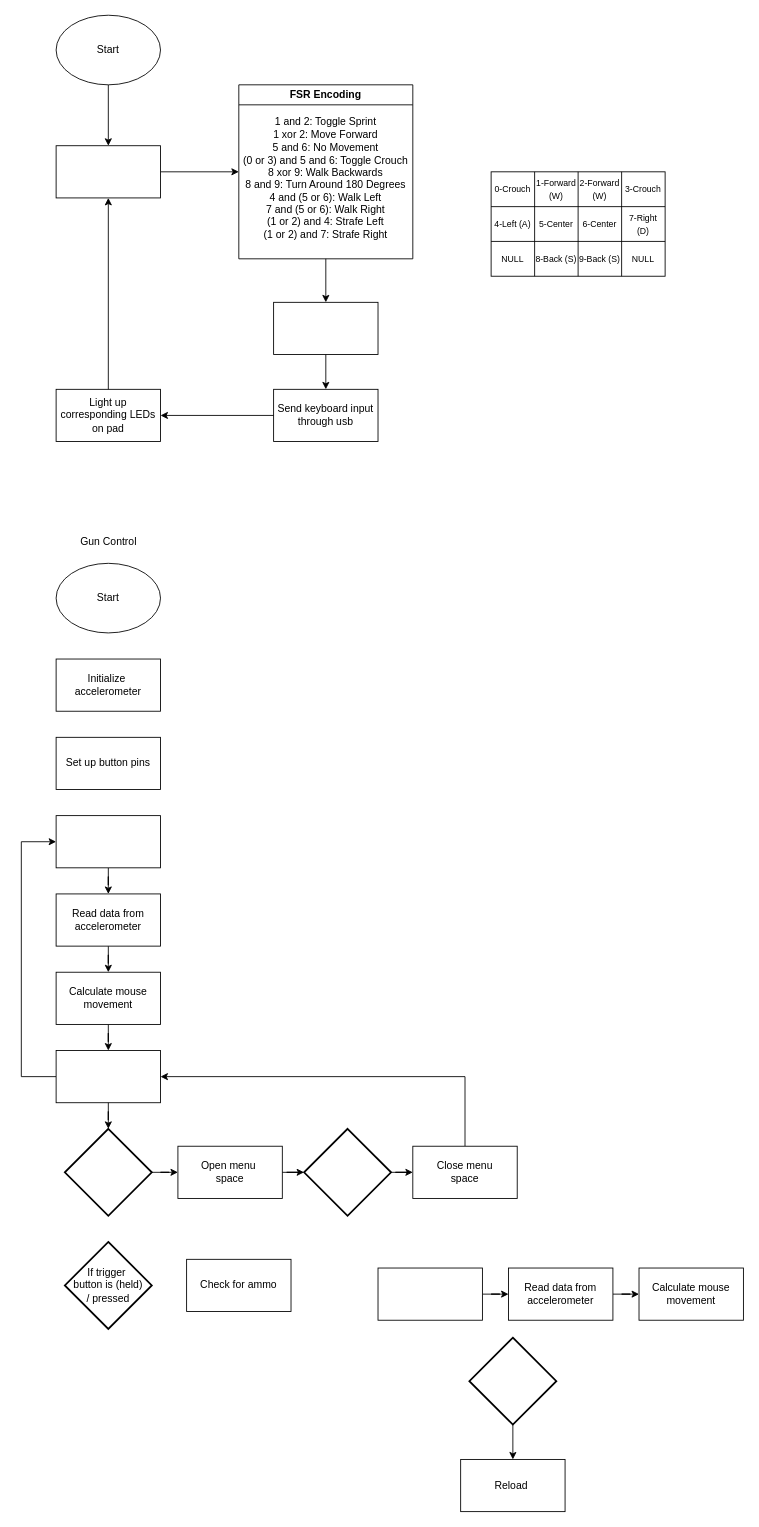
Image size: 759x1527. Some labels were removed from this diagram. The box of each missing label's shape, as (x1, y1, x2, y2) in pixels:
Check button: (55, 1050, 161, 1103)
Determine corresponding keyboard input: (273, 301, 378, 355)
Fire: (377, 1267, 482, 1320)
If menu button clicked: (64, 1128, 152, 1216)
If menu button clicked AGAIN: (303, 1128, 392, 1216)
If no ammo: (468, 1336, 557, 1425)
Main program loop: (55, 815, 161, 868)
Read input of force sensitive resistors: (55, 145, 161, 198)
